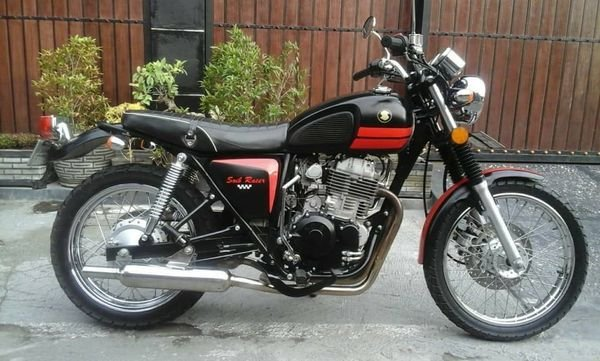motor: (48, 22, 586, 343)
